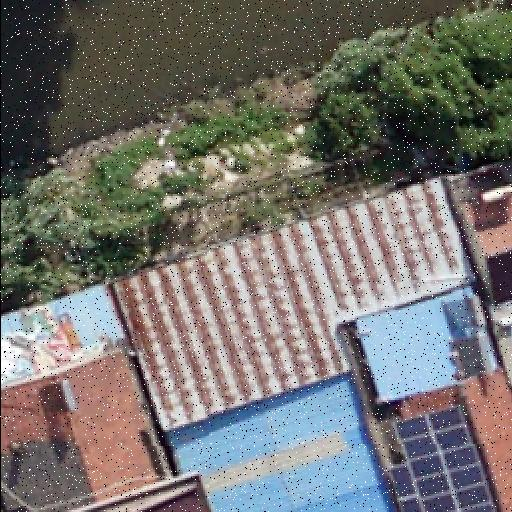solar-panel: (388, 404, 492, 512)
